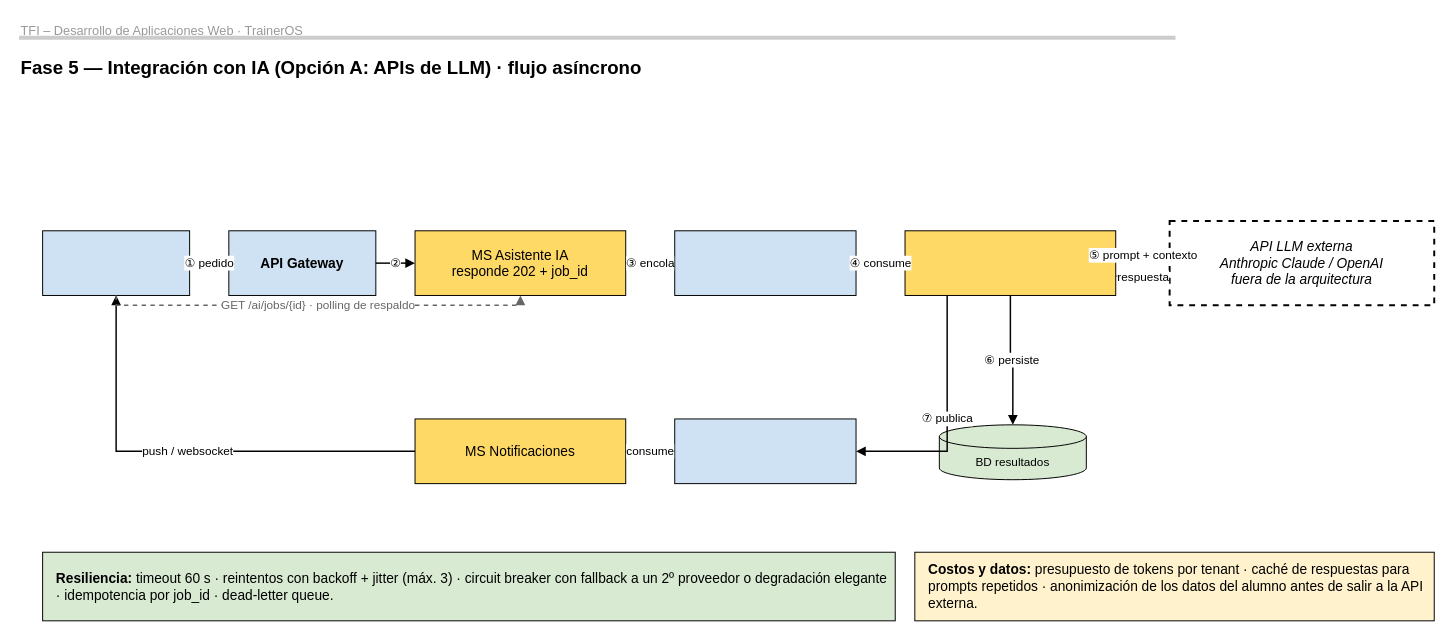
Image size: 1451x638. Some labels were removed from this diagram. Here are the shapes that lost their labels. From the top down, the centre of each, then its label:
point (116, 262): Cliente
point (765, 262): Pub/Sub · ia.jobs (cola de trabajos)
point (1010, 262): Workers IA · GKE HPA por profundidad de cola
point (765, 451): Pub/Sub · ia.job.terminado
